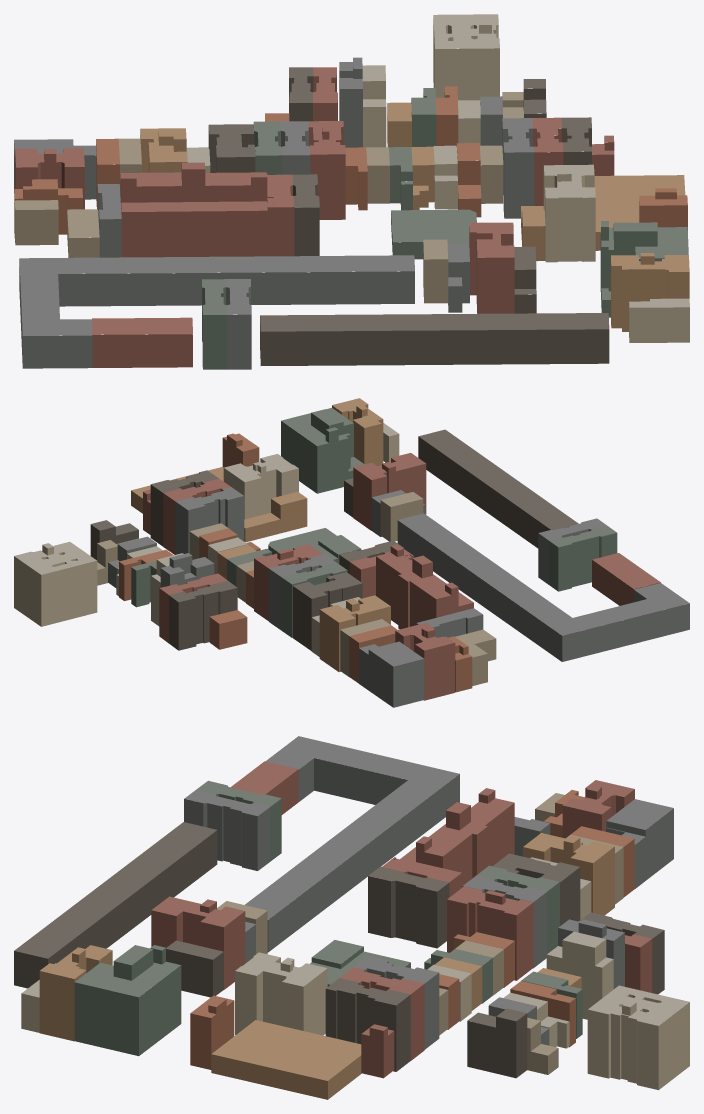
File: tile-8_4.glb
3 renders of one model, top to bottom at view 1: azimuth 30°, elevation 25°; view 2: azimuth 150°, elevation 25°; view 3: azimuth 270°, elevation 25°, orthographic. The views are drawn at different scales.
Visible parts, largest first — view 1: wall, roof; view 2: wall, roof; view 3: wall, roof.
Part boxes in pixels (bbox=[...]): wall: bbox=[14, 18, 689, 369]; roof: bbox=[14, 14, 689, 335]; wall: bbox=[14, 404, 689, 707]; roof: bbox=[14, 398, 689, 666]; wall: bbox=[14, 758, 689, 1099]; roof: bbox=[14, 736, 689, 1080].
Bounding box in the file's own units: 240 × 29.63 × 208.
